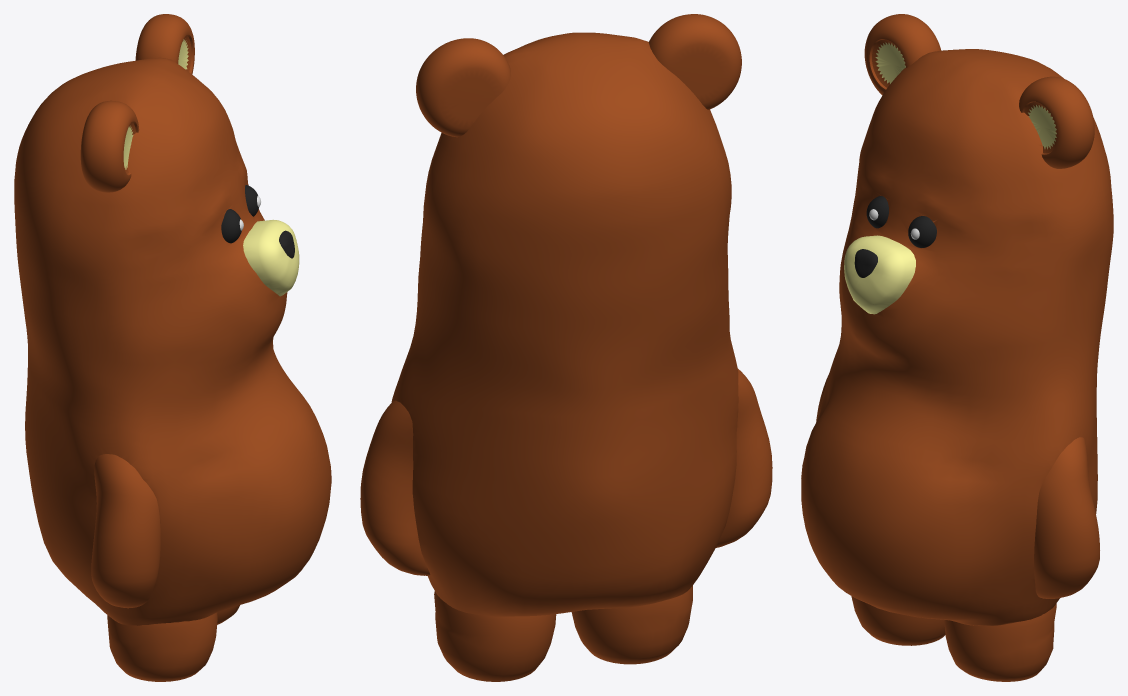
File: DevelobearDraco.gltf
3 views of the same model, side by side, from view 1: azimuth 30°, elevation 25°; view 2: azimuth 150°, elevation 25°; view 3: azimuth 270°, elevation 25° (orthographic). The views are drawn at different scales.
Parts seen in each view (by area): view 1: Bear; view 2: Bear; view 3: Bear.
Part boxes in pixels (bbox=[...]): Bear: bbox=[14, 14, 331, 681]; Bear: bbox=[360, 14, 772, 681]; Bear: bbox=[801, 14, 1113, 681].
Bounding box in the file's own units: 2.96 × 6.14 × 2.95.
